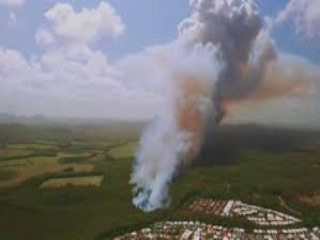smoke: (119, 4, 241, 217)
